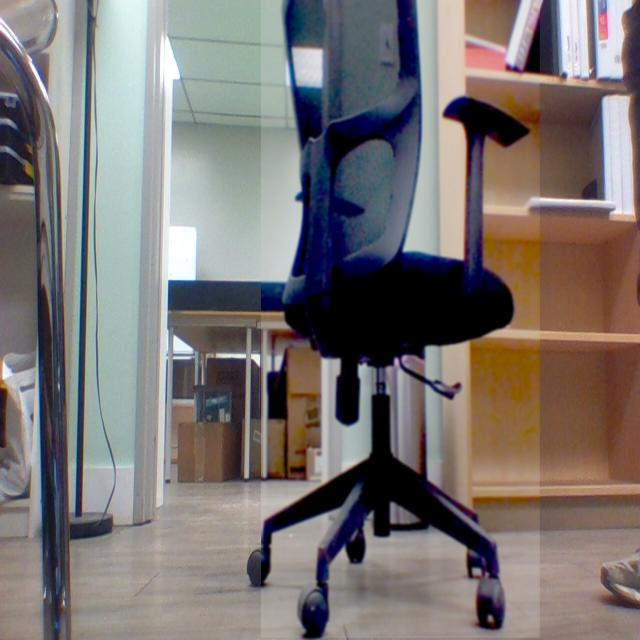black-chair: (261, 0, 541, 639)
